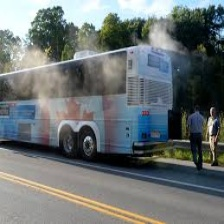smoke: (8, 55, 59, 104), (155, 32, 170, 47)
